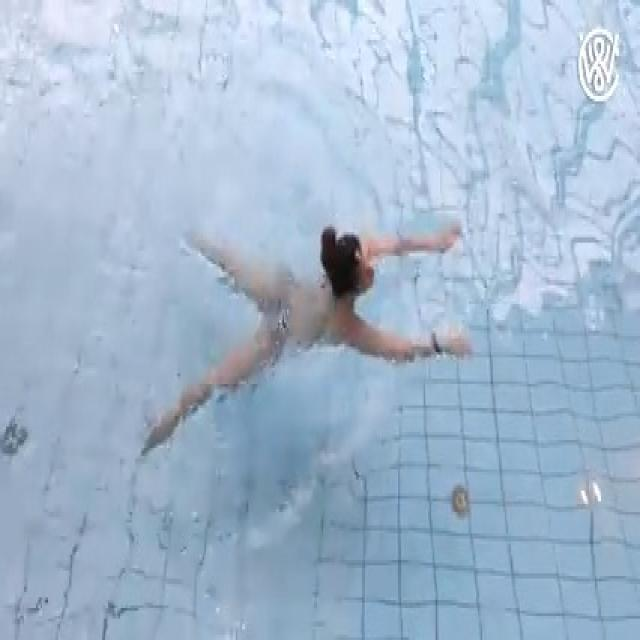Swimming: (153, 229, 475, 442)
